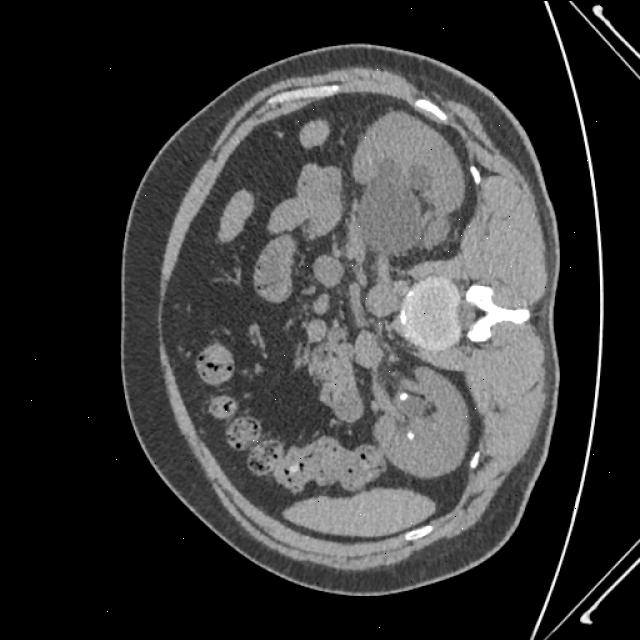kidneystone: (399, 390, 408, 400)
